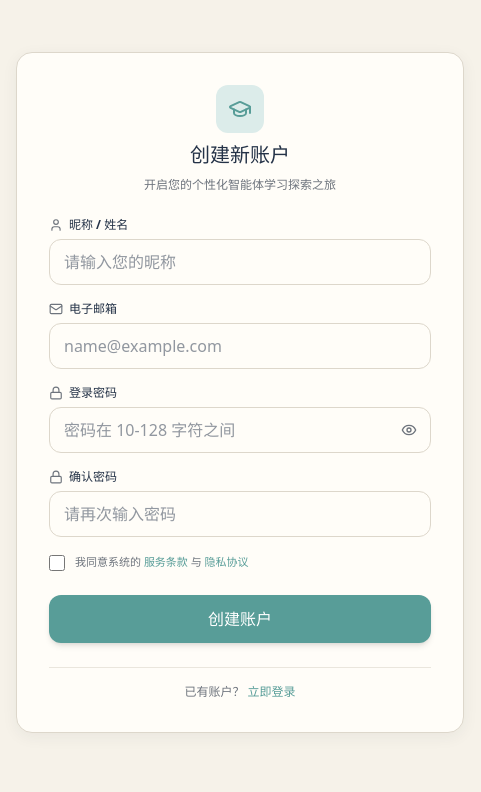
Test: Auth Pages › RegisterPage › shows validation errors on empty or invalid inputs
This screenshot has width=481, height=792.
Click the button "创建账户". click: (240, 618)
box: [49, 594, 431, 642]
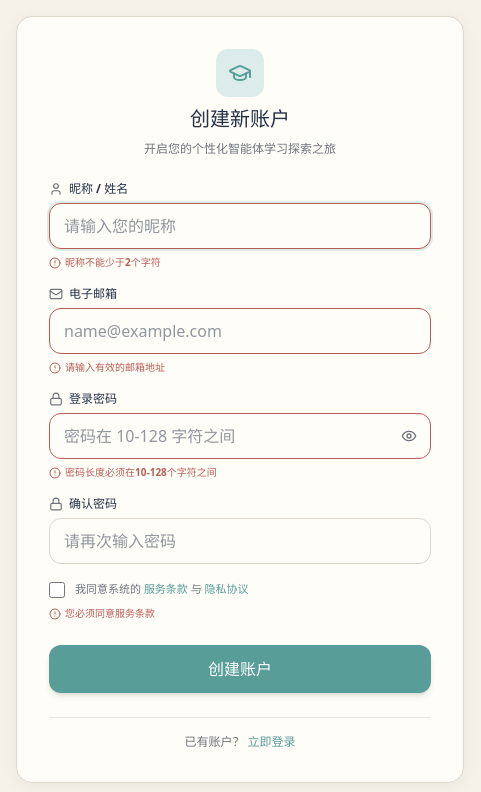
Result: the message "昵称不能少于2个字符" is shown at [49, 255, 161, 269]
